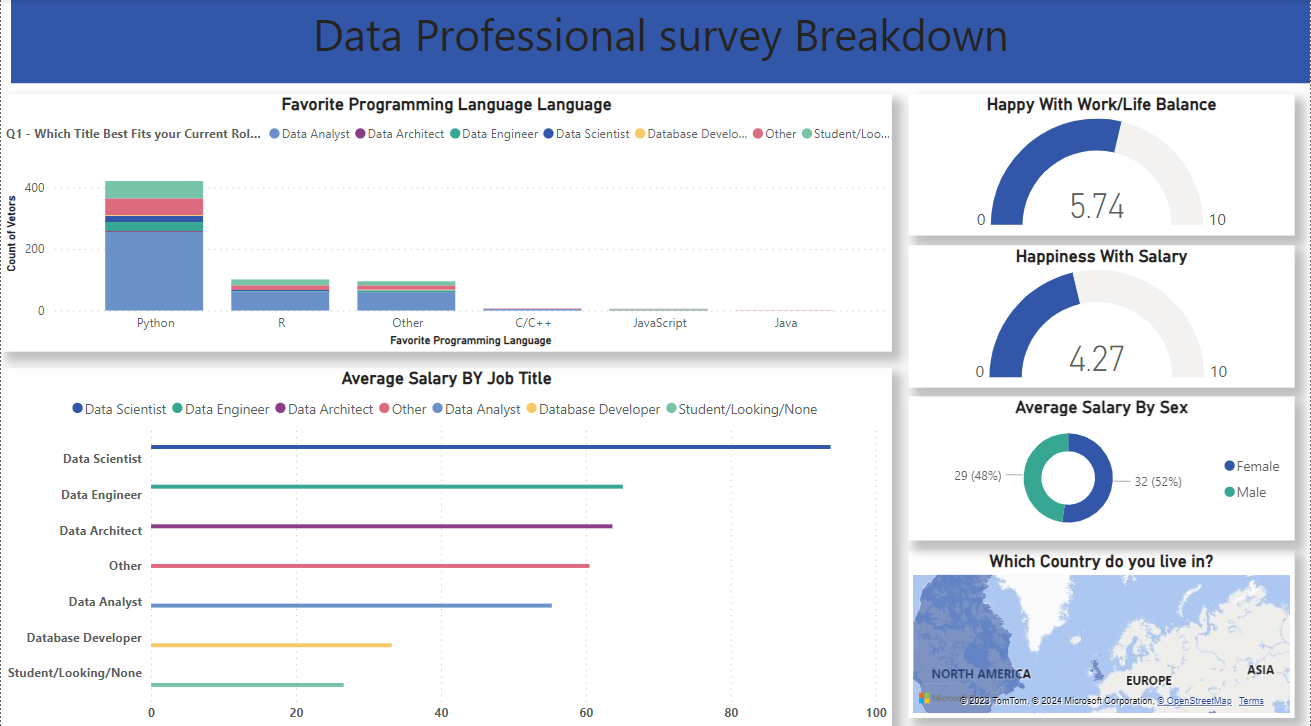

This screenshot's page, from the dashboard's own definition file:
{"tool":"powerbi","page":{"name":"Page 1","canvas":[1280,720],"ordinal":0},"visuals":[{"type":"textbox","box":[9.6,0,1270.7,82.3],"z":0},{"type":"card","title":"Average Age Of Survey Taker","fields":{"Values":["Avg(Data Professional Survey.Q10 - Current Age)"]},"box":[600.2,508.5,271.4,122.2],"z":1},{"type":"clusteredBarChart","title":"Average Salary BY Job Title","fields":{"Category":["Data Professional Survey.Q1 - Which Title Best Fits your Current Role?.1"],"Y":["Avg(Data Professional Survey.Average Salary)"],"Series":["Data Professional Survey.Q1 - Which Title Best Fits your Current Role?.1"]},"box":[0,360.6,871.6,355.7],"z":2},{"type":"columnChart","title":" Favorite Programming Language Language","fields":{"Category":["Data Professional Survey.Q5 - Favorite Programming Language.1"],"Y":["CountNonNull(Data Professional Survey.Unique ID)"],"Series":["Data Professional Survey.Q1 - Which Title Best Fits your Current Role?.1"]},"box":[0,92.9,871.6,251.8],"z":3},{"type":"filledMap","title":" Which Country do you live in?","fields":{"Category":["Data Professional Survey.Q11 - Which Country do you live in?.1"]},"box":[887.5,539.1,377.7,163.8],"z":4},{"type":"gauge","title":"Happy With Work/Life Balance","fields":{"Y":["Avg(Data Professional Survey.Q6 - How Happy are you in your Current Position with the following? (Work/Life Balance))"],"MinValue":["Min(Data Professional Survey.Q6 - How Happy are you in your Current Position with the following? (Work/Life Balance))"],"MaxValue":["Max(Data Professional Survey.Q6 - How Happy are you in your Current Position with the following? (Work/Life Balance))"]},"box":[887.5,92.9,377.7,138.1],"z":5},{"type":"gauge","title":"Happiness With Salary","fields":{"Y":["Avg(Data Professional Survey.Q6 - How Happy are you in your Current Position with the following? (Salary))"],"MinValue":["Min(Data Professional Survey.Q6 - How Happy are you in your Current Position with the following? (Salary))"],"MaxValue":["Max(Data Professional Survey.Q6 - How Happy are you in your Current Position with the following? (Salary))"]},"box":[887.5,240.8,377.7,139.4],"z":6},{"type":"donutChart","title":"Average Salary By Sex","fields":{"Category":["Data Professional Survey.Q9 - Male/Female?"],"Y":["Avg(Data Professional Survey.Q10 - Current Age)"]},"box":[887.5,388.7,377.7,140.6],"z":7}]}

Visuals, with their boxes in screenshot pixels (x1, y1, x2, y2), scaled from the page's 1280x720 canvas onto the 1311x726 screenshot:
textbox: pyautogui.locateOnScreen(10, 0, 1310, 83)
"Average Age Of Survey Taker" card: pyautogui.locateOnScreen(615, 513, 893, 636)
"Average Salary BY Job Title" clusteredBarChart: pyautogui.locateOnScreen(0, 364, 893, 722)
" Favorite Programming Language Language" columnChart: pyautogui.locateOnScreen(0, 94, 893, 348)
" Which Country do you live in?" filledMap: pyautogui.locateOnScreen(909, 544, 1296, 709)
"Happy With Work/Life Balance" gauge: pyautogui.locateOnScreen(909, 94, 1296, 233)
"Happiness With Salary" gauge: pyautogui.locateOnScreen(909, 243, 1296, 383)
"Average Salary By Sex" donutChart: pyautogui.locateOnScreen(909, 392, 1296, 534)
